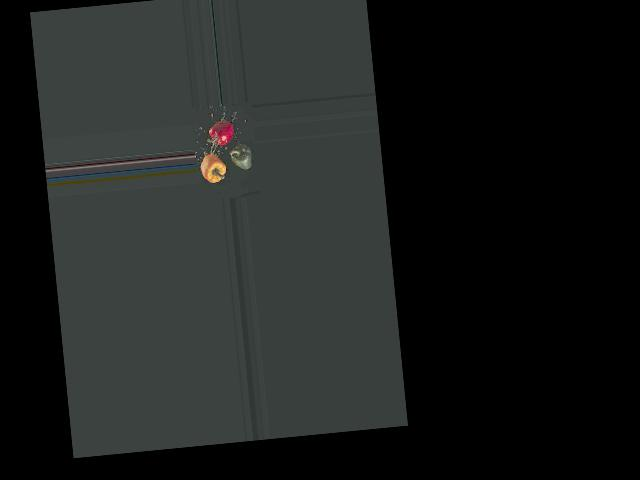bell_pepper: (201, 119, 240, 151)
